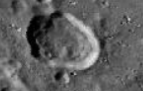crater: (12, 3, 120, 77)
